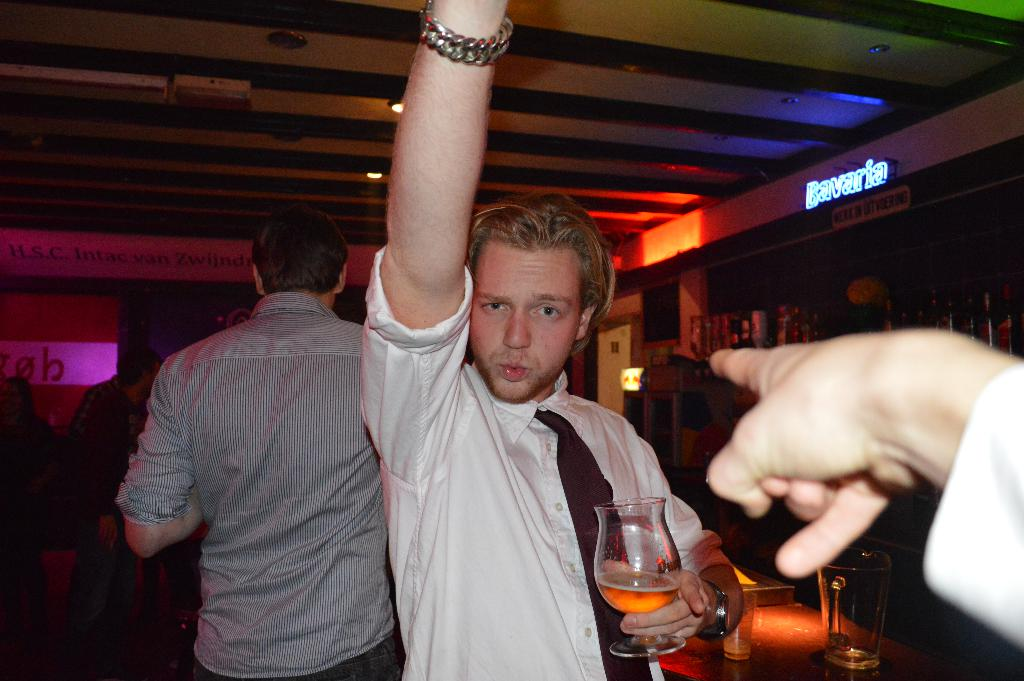Beer: (587, 495, 695, 671), (814, 546, 892, 680)
